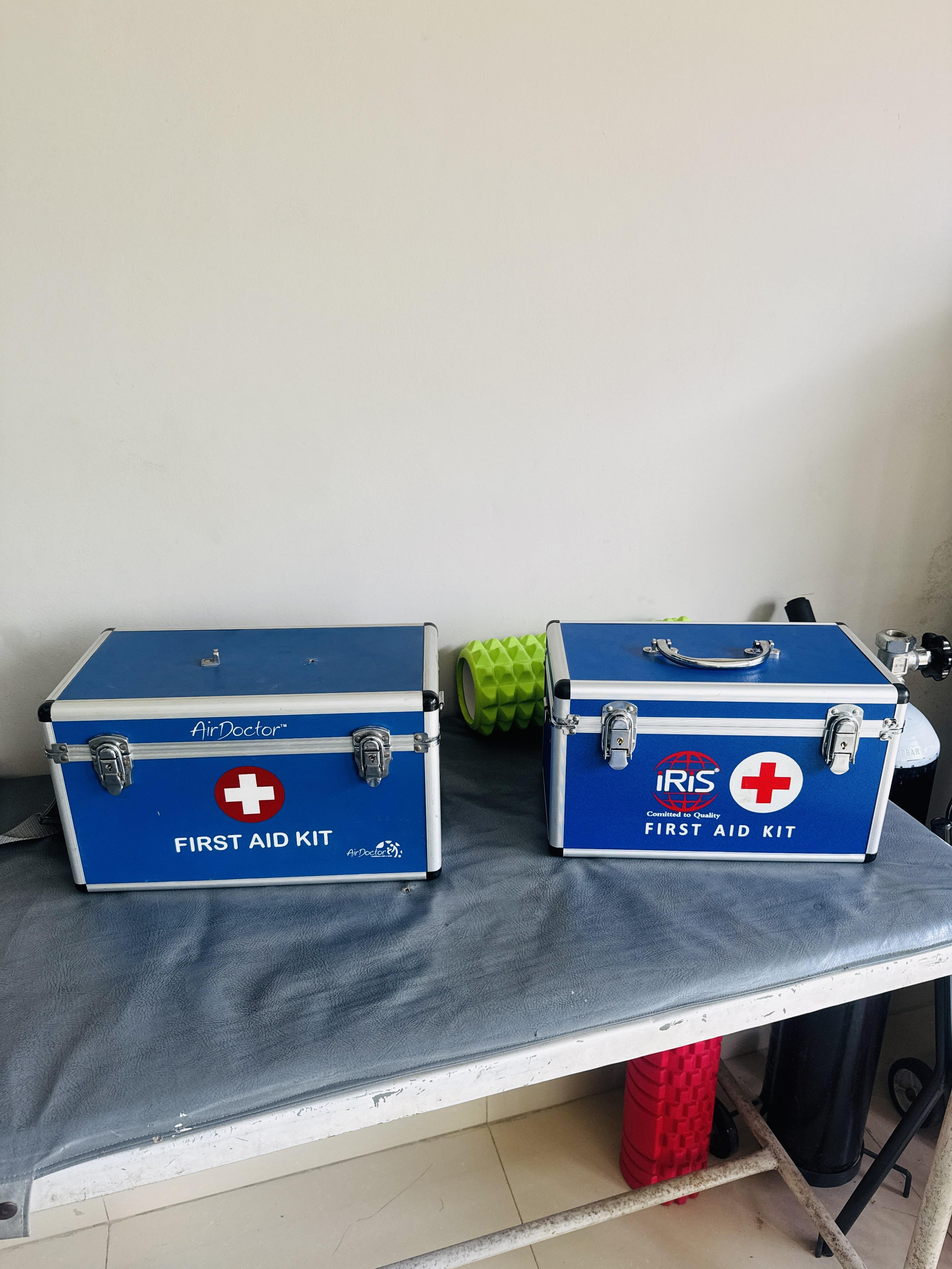FirstAidBox: (22, 604, 467, 910), (527, 596, 922, 894)
